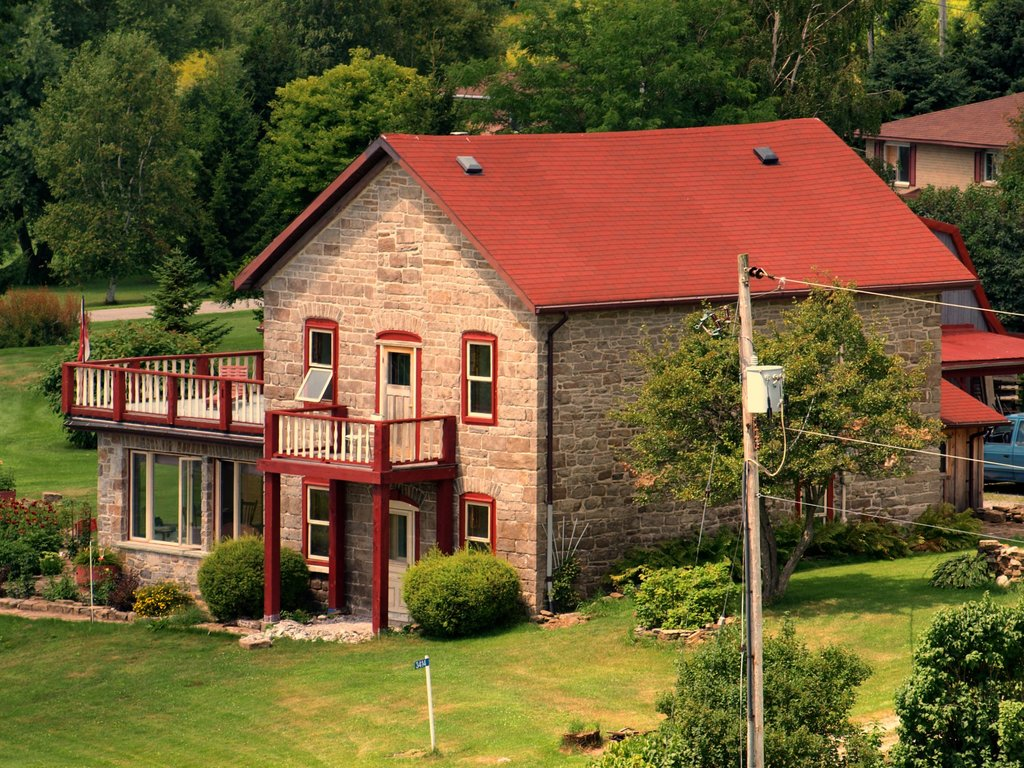Tree: (204, 0, 1023, 308), (603, 278, 945, 598), (583, 591, 1023, 767), (21, 28, 210, 309), (8, 241, 236, 455)
